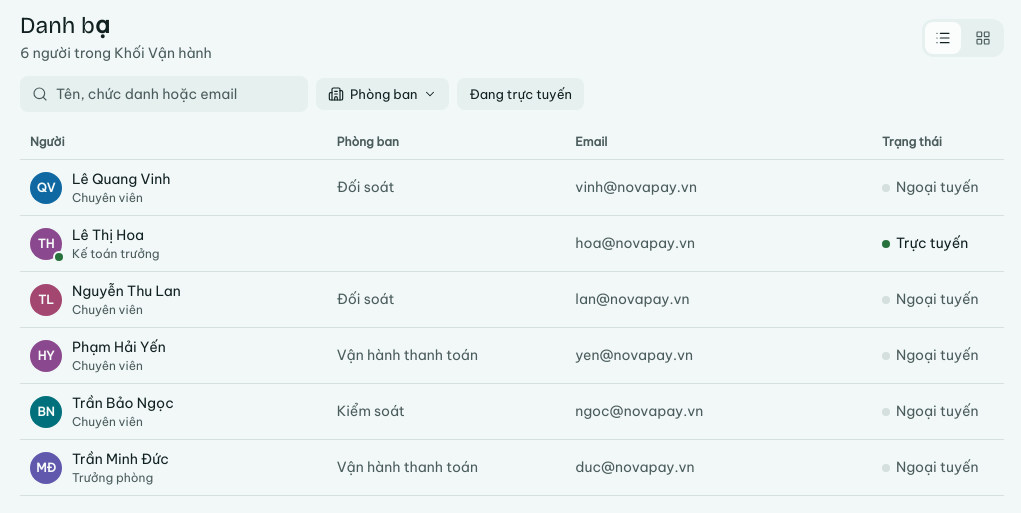
Test: ContactsScreen: suggestions in the empty search box › runs a recent search again
Expected: the button "Trần Minh Đức" is shown, x1=72 y1=449 x2=169 y2=470
Click the dropdown labelled "Tên, chức danh hoặc email" at (176, 94), box x1=56 y1=76 x2=296 y2=112
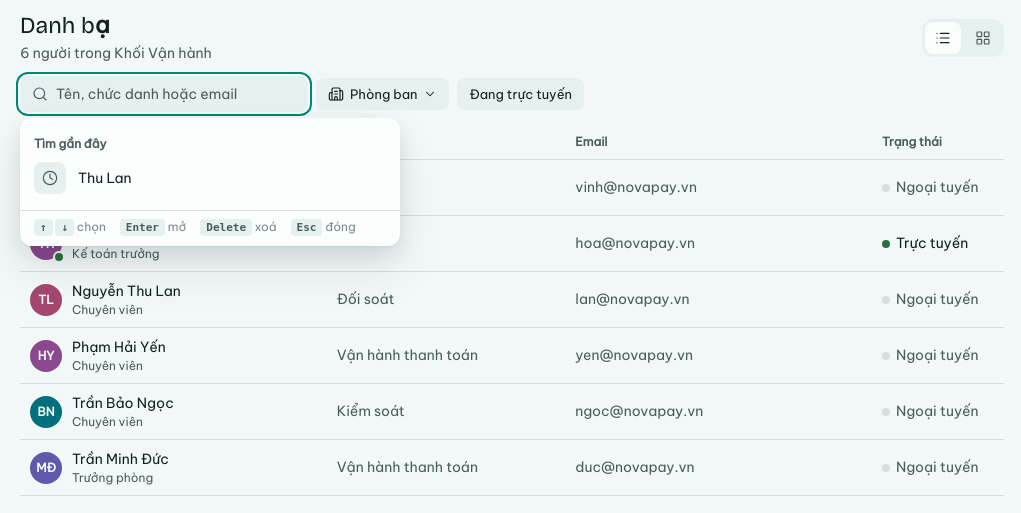
Click the option "Thu Lan" at (83, 178), box x1=34 y1=162 x2=132 y2=194
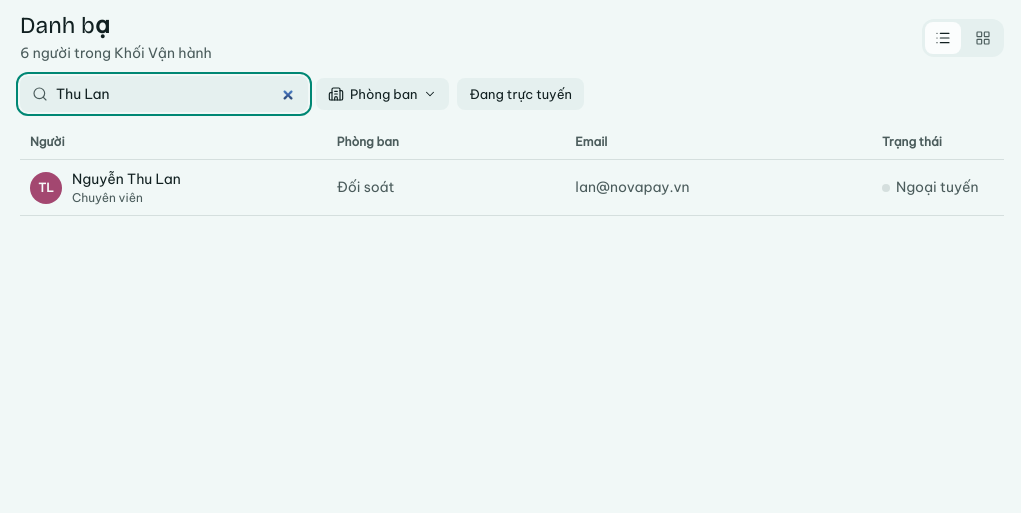
Expected: the dropdown named "Tên, chức danh hoặc email" holds "Thu Lan", x1=56 y1=76 x2=296 y2=112
